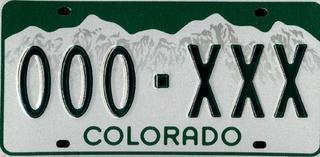placa de veiculo: (7, 2, 315, 152)
